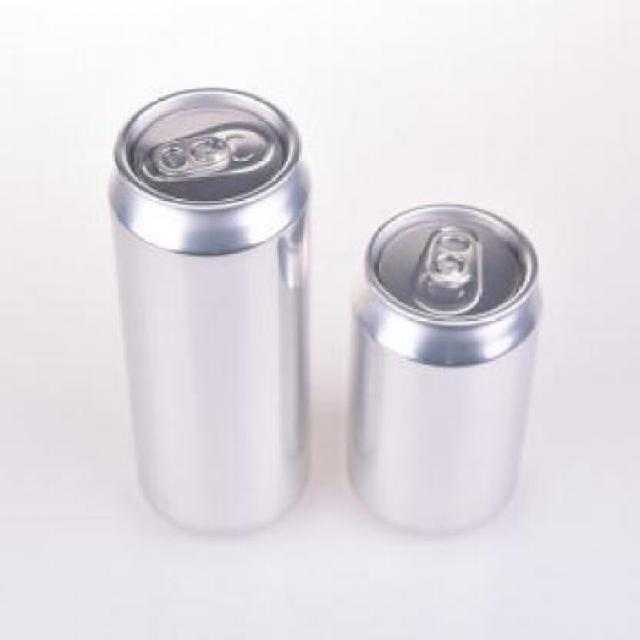can: (102, 69, 324, 554), (328, 195, 552, 552)
